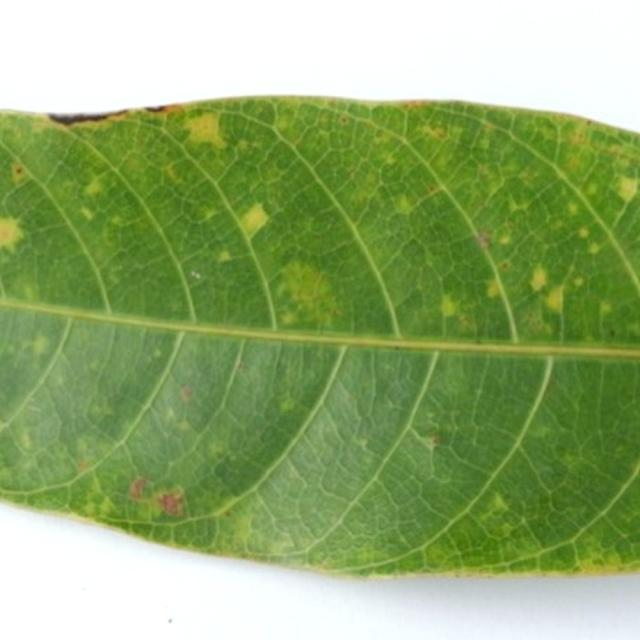Mango: (0, 98, 639, 573)
Powdery_Mildew: (278, 260, 343, 320), (236, 197, 274, 243), (185, 112, 228, 148), (0, 216, 25, 250), (156, 490, 185, 517), (543, 281, 567, 311), (617, 175, 640, 200), (440, 293, 460, 318), (30, 333, 50, 357), (128, 477, 148, 501), (83, 176, 104, 198), (490, 492, 509, 512), (394, 194, 413, 214), (485, 278, 503, 299), (179, 384, 194, 401), (429, 125, 446, 140), (599, 300, 614, 316), (79, 206, 95, 221), (217, 249, 232, 263), (498, 232, 511, 245)
